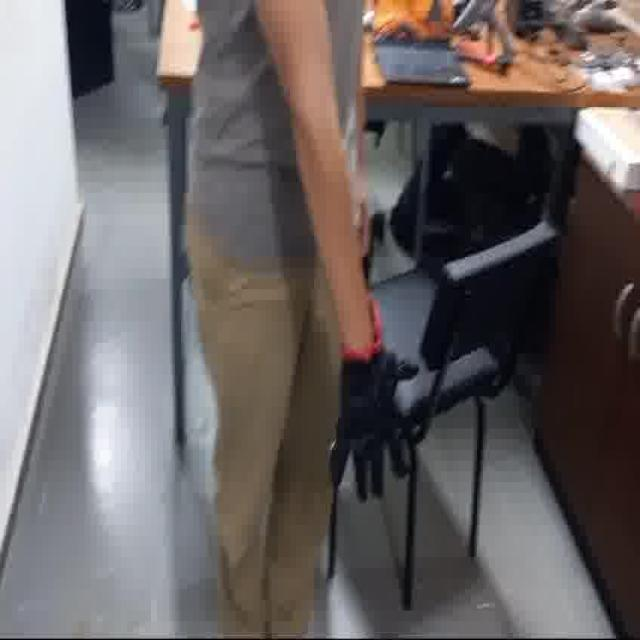Gloves: (318, 333, 422, 514)
